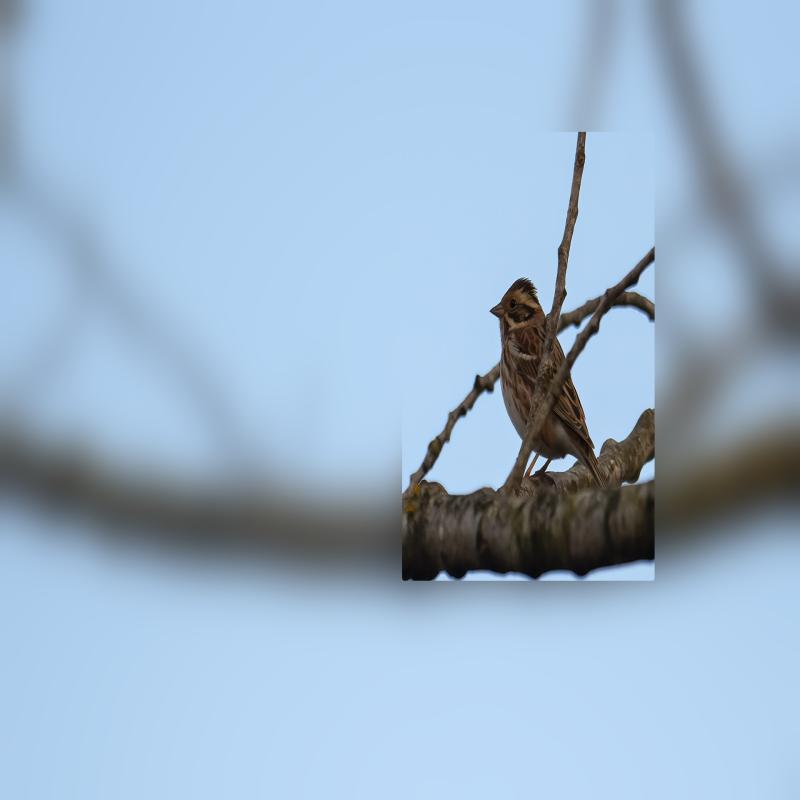rustic bunting: (476, 256, 609, 496)
